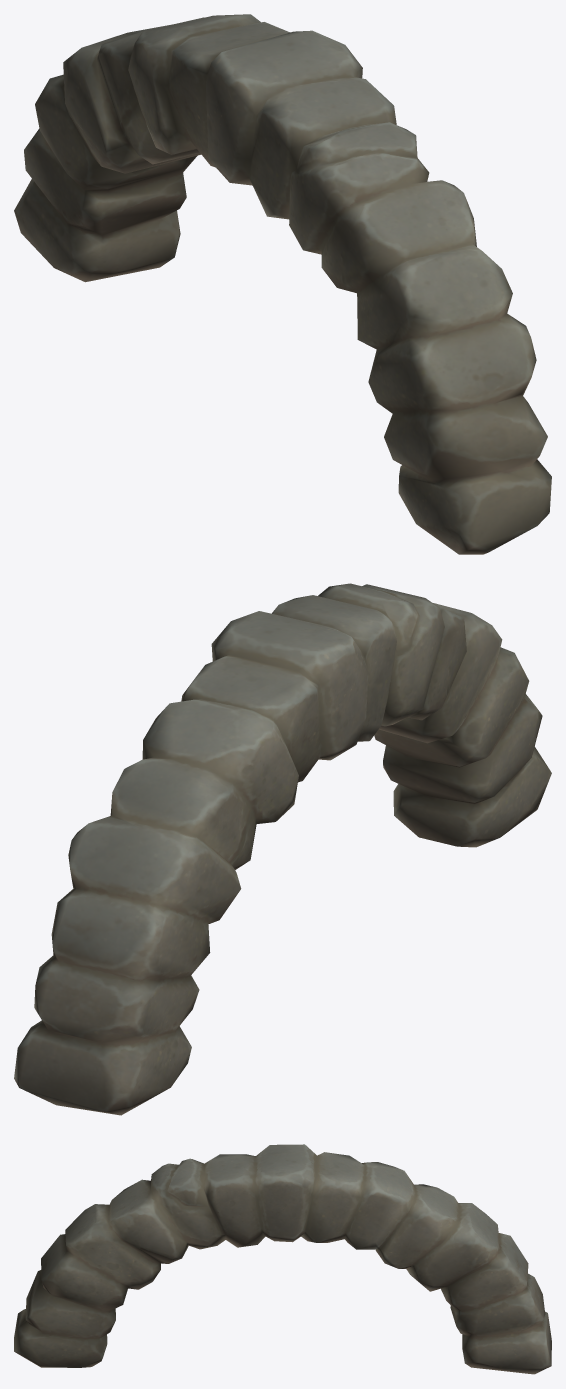
The model's file is SM_FW01_Ruins_Int_Ceiling_4x4_Arch_01.fbx.
The picture shows the model from 3 angles, top to bottom: view 1: azimuth 30°, elevation 25°; view 2: azimuth 150°, elevation 25°; view 3: azimuth 270°, elevation 25°; orthographic projection. The views are drawn at different scales.
Parts seen in each view (by area): view 1: SM_FW01_Ruins_Int_Ceiling_4x4_Arch_01_LOD0; view 2: SM_FW01_Ruins_Int_Ceiling_4x4_Arch_01_LOD0; view 3: SM_FW01_Ruins_Int_Ceiling_4x4_Arch_01_LOD0.
Part boxes in pixels (box(x1,y1,x2,y2)): SM_FW01_Ruins_Int_Ceiling_4x4_Arch_01_LOD0: box(14, 14, 551, 554); SM_FW01_Ruins_Int_Ceiling_4x4_Arch_01_LOD0: box(14, 583, 551, 1115); SM_FW01_Ruins_Int_Ceiling_4x4_Arch_01_LOD0: box(14, 1144, 551, 1374).
Size of what is drawn, in the model's own units: 0.6847 by 1.66 by 4.03.
